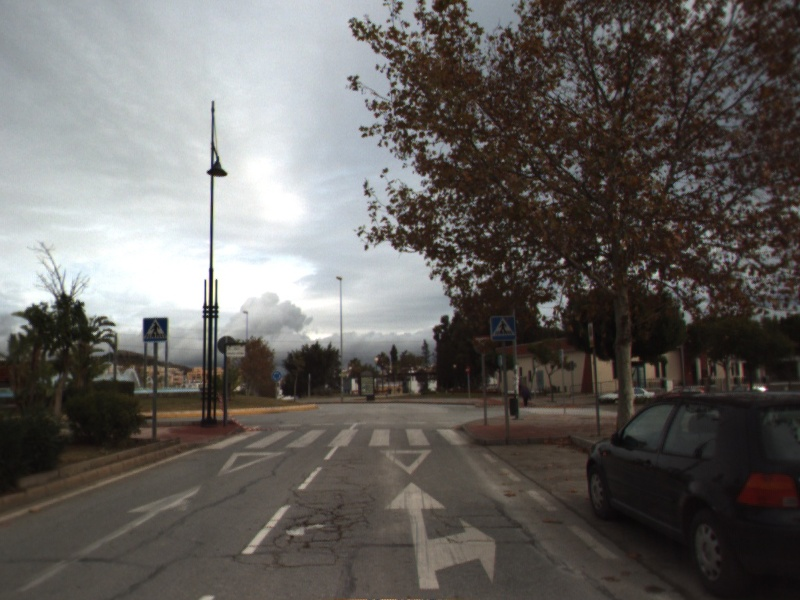STRAIGHT: (13, 481, 205, 594)
STRAIGHT_RIGHT: (382, 479, 498, 591)
